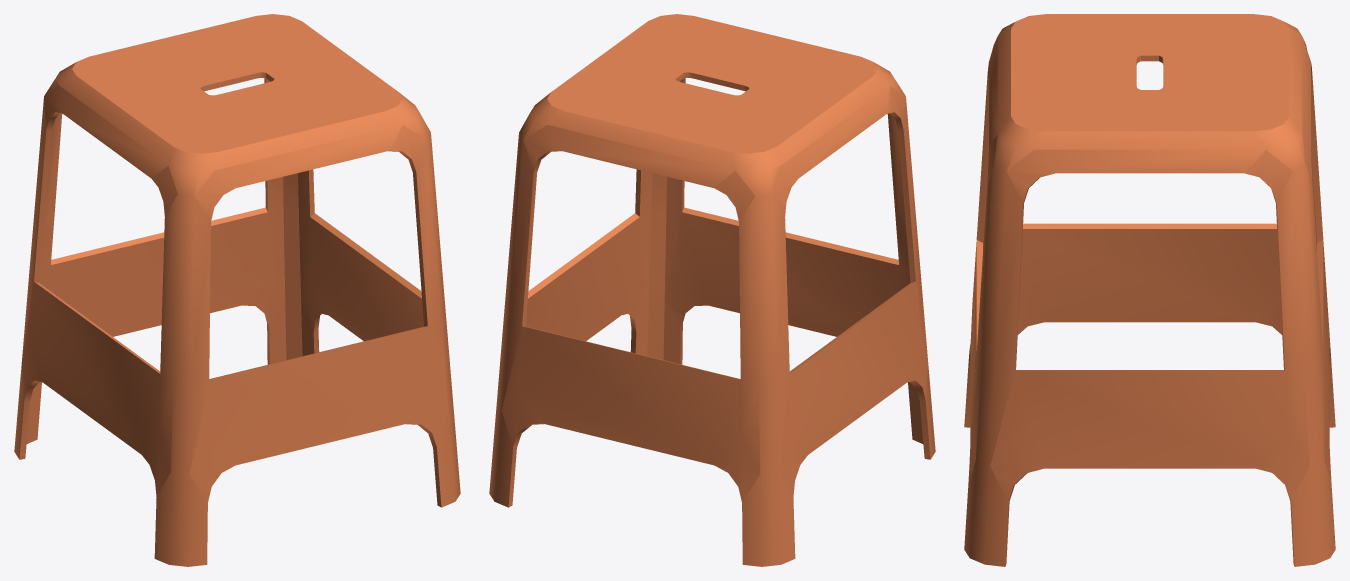
File: Taburete_Naranja.fbx
The picture shows the model from 3 angles, left to right: view 1: azimuth 30°, elevation 25°; view 2: azimuth 150°, elevation 25°; view 3: azimuth 270°, elevation 25°; orthographic projection. The views are drawn at different scales.
Visible parts, largest first — view 1: Taburete; view 2: Taburete; view 3: Taburete.
Part boxes in pixels (x1=…): Taburete: x1=14, y1=14, x2=460, y2=566; Taburete: x1=489, y1=14, x2=935, y2=566; Taburete: x1=964, y1=14, x2=1335, y2=566.
Bounding box in the file's own units: 231 × 285 × 231.
